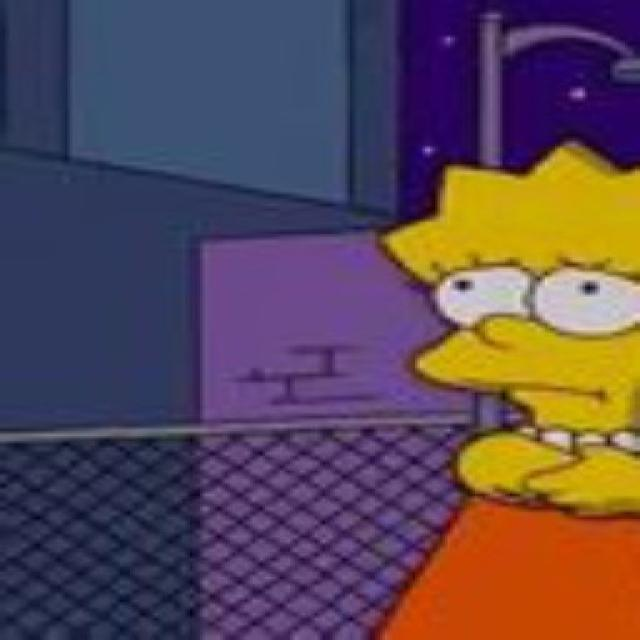Lisa Simpson: (377, 141, 640, 443)
